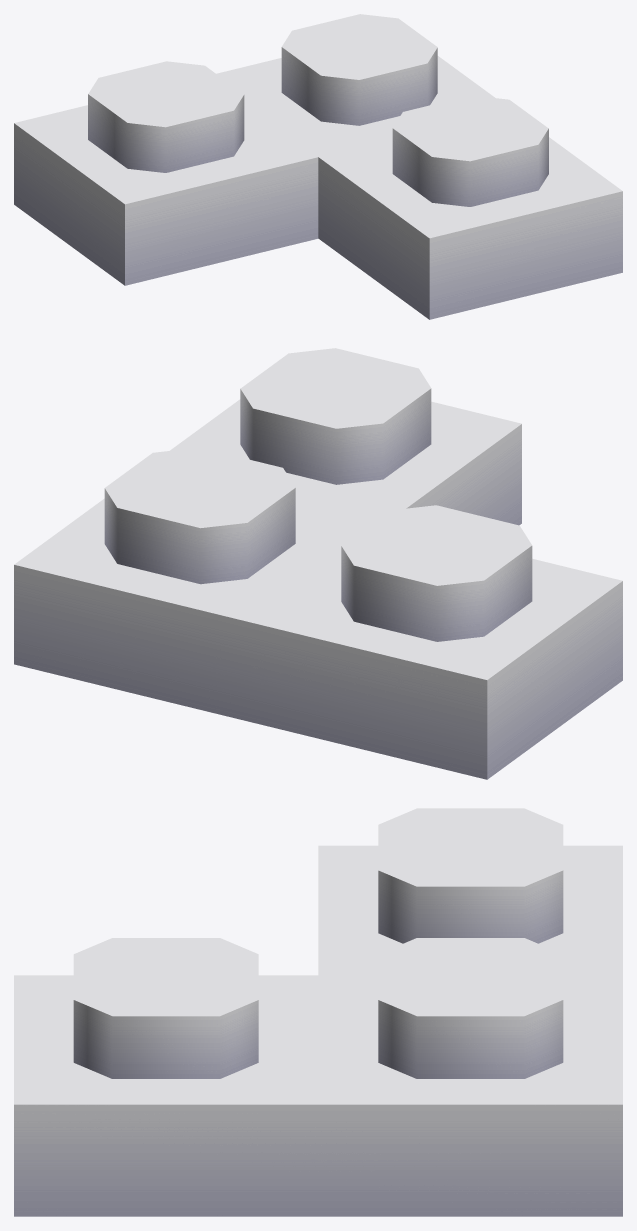
Rendered from brick-kit--bevel-lq-plate-corner.glb.
3 views of the same model, one above another, from view 1: azimuth 30°, elevation 25°; view 2: azimuth 150°, elevation 25°; view 3: azimuth 270°, elevation 25° (orthographic). The views are drawn at different scales.
Parts seen in each view (by area): view 1: bevel-lq-plate-corner; view 2: bevel-lq-plate-corner; view 3: bevel-lq-plate-corner.
Part boxes in pixels (x1,y1,x2,y2): bevel-lq-plate-corner: [14, 14, 622, 319]; bevel-lq-plate-corner: [14, 348, 622, 779]; bevel-lq-plate-corner: [14, 808, 622, 1216].
Bounding box in the file's own units: 0.159 × 0.05 × 0.158.
1 material, 1 textured.
